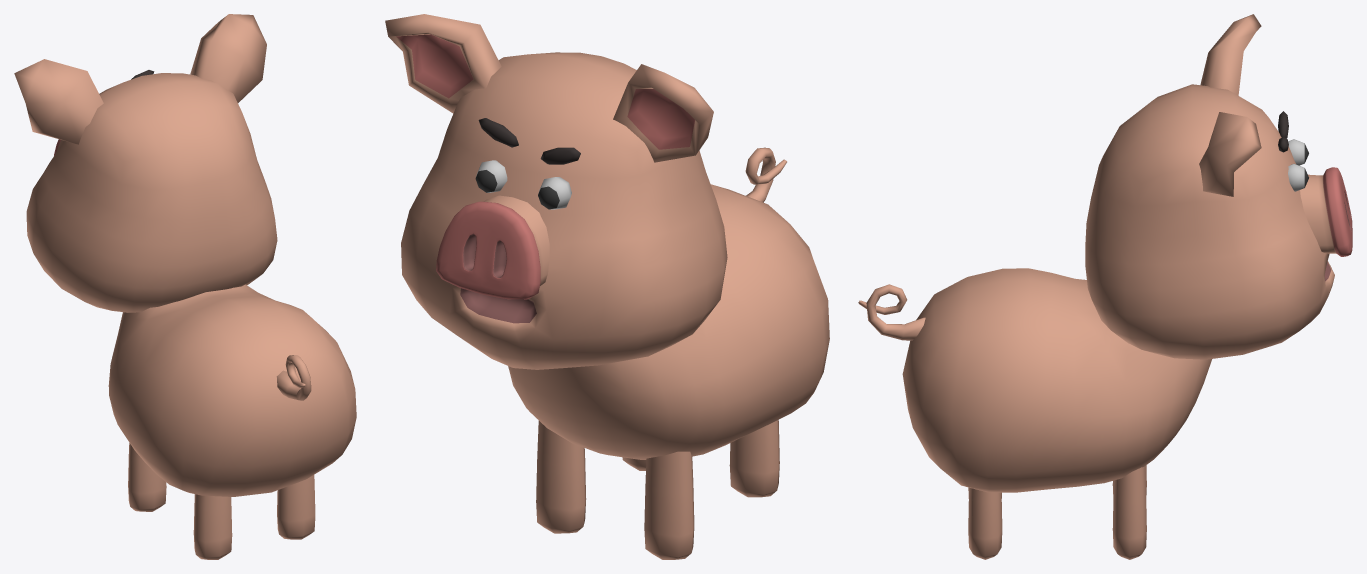
Rendered from 8 Pig.FBX.
3 renders of one model, left to right at view 1: azimuth 30°, elevation 25°; view 2: azimuth 150°, elevation 25°; view 3: azimuth 270°, elevation 25°, orthographic. The views are drawn at different scales.
Parts seen in each view (by area): view 1: Box049, Box051, Box054, Box052, Box053, Box055, Line005; view 2: Box049, Box051, Box054, Box050, Box055, Box056, Box052, Line005, Sphere016, Sphere015, Box059, Box058; view 3: Box051, Box049, Box054, Box050, Box056, Box053, Line005.
Part boxes in pixels (box(x1,y1,x2,y2)): Box049: box(26, 73, 277, 312); Box051: box(108, 284, 356, 496); Box054: box(14, 14, 266, 144); Box052: box(193, 494, 232, 559); Box053: box(277, 475, 315, 539); Box055: box(128, 443, 166, 511); Line005: box(276, 355, 311, 400); Box049: box(401, 52, 727, 369); Box051: box(508, 184, 829, 459); Box054: box(385, 14, 713, 162); Box050: box(436, 195, 549, 299); Box055: box(644, 451, 694, 559); Box056: box(536, 420, 586, 533); Box052: box(729, 420, 779, 497); Line005: box(745, 147, 786, 202); Sphere016: box(538, 177, 571, 209); Sphere015: box(475, 160, 507, 192); Box059: box(478, 118, 518, 147); Box058: box(540, 147, 580, 164); Box051: box(902, 268, 1211, 492); Box049: box(1085, 84, 1334, 359); Box054: box(1199, 14, 1261, 196); Box050: box(1300, 167, 1352, 256); Box056: box(1112, 466, 1146, 559); Box053: box(968, 487, 1002, 559); Line005: box(858, 284, 925, 340).
Bounding box in the file's own units: 74.57 × 125 × 120.
